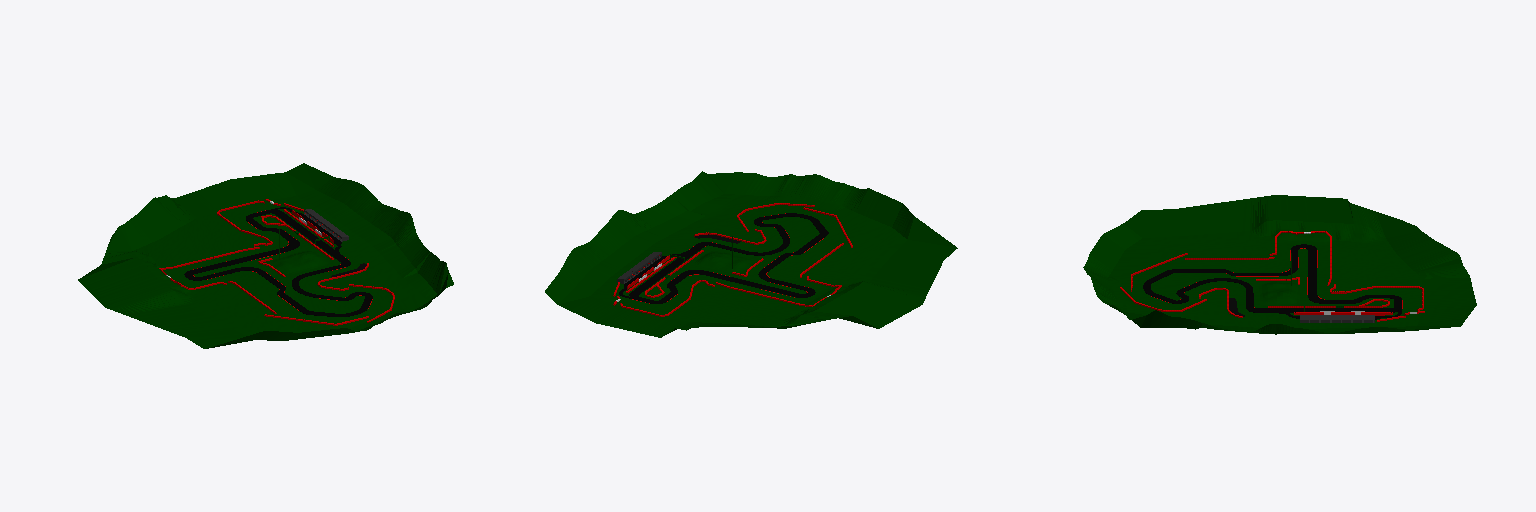
The model's file is uploads_files_4992551_Taas+circuit.obj.
3 views of the same model, side by side, from view 1: azimuth 30°, elevation 25°; view 2: azimuth 150°, elevation 25°; view 3: azimuth 270°, elevation 25° (orthographic).
Visible parts, largest first — view 1: Grass, track; view 2: Grass, track; view 3: Grass, track.
Part boxes in pixels (left/top/right/bottom): Grass: left=78, top=163, right=453, bottom=348; track: left=184, top=210, right=372, bottom=316; Grass: left=545, top=171, right=957, bottom=337; track: left=629, top=213, right=828, bottom=303; Grass: left=1083, top=195, right=1476, bottom=334; track: left=1143, top=244, right=1401, bottom=312.
Size of the model in its own units: 292 by 31.46 by 327.